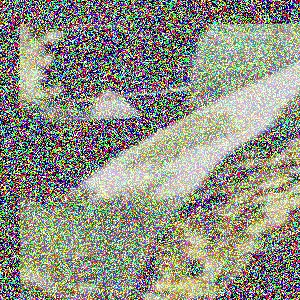Leaf_Blast: (73, 85, 233, 300)
